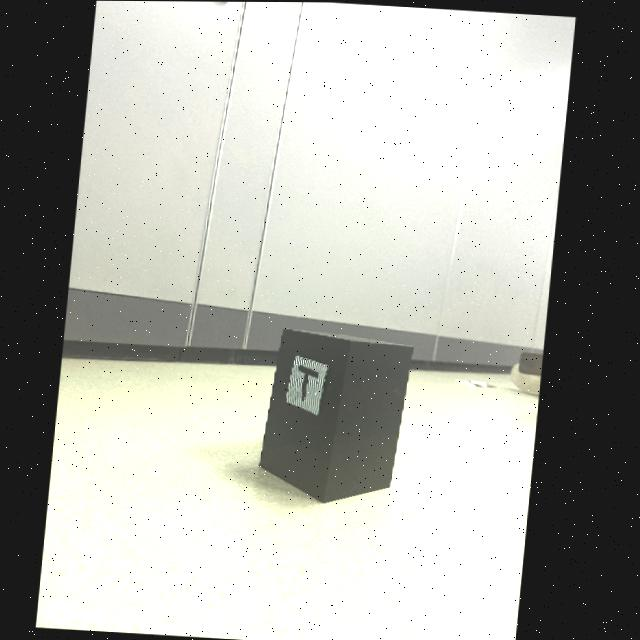T: (302, 365, 322, 400)
